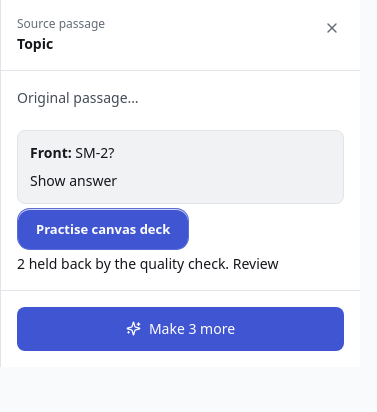
Test: shows a flashcard front and reveals its back without options
This screenshot has width=377, height=412.
Expected: the text "SM-2?" reads "Front: SM-2?", [30,143,114,162]
Expected: the text "Reviews." is not shown
Click the button "Show answer" at (74, 181), box [30,171,117,191]
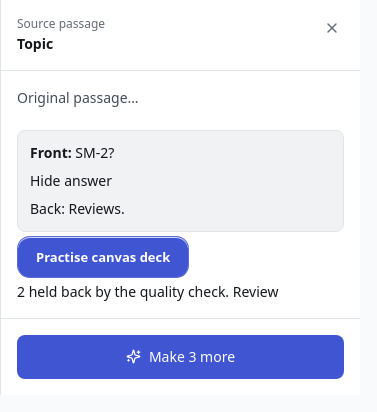
Expected: the text "Back: Reviews." is shown, [30,199,125,218]
